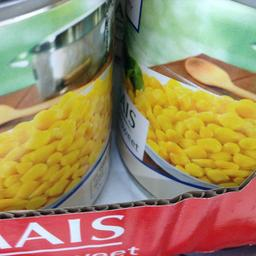corn: (116, 0, 254, 197), (0, 0, 111, 214)
